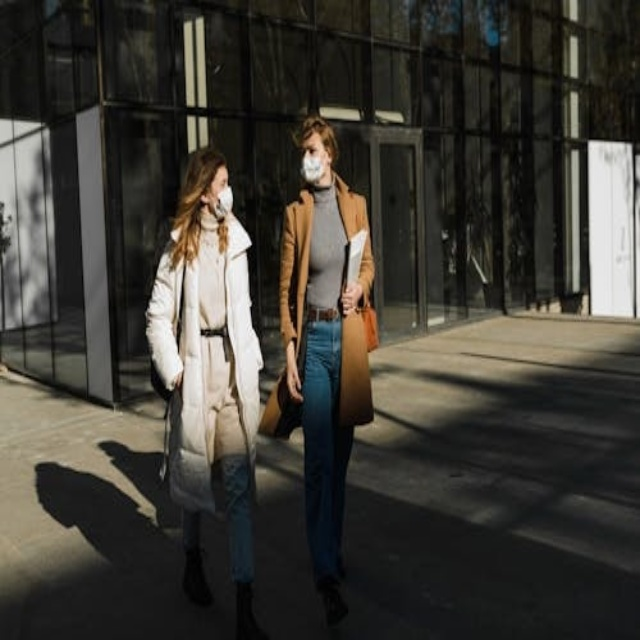Mascara: (300, 152, 325, 183), (213, 185, 234, 218)
Sin_gafas: (207, 172, 232, 194), (303, 138, 324, 151)
Sin_guantes: (283, 351, 308, 408), (341, 279, 362, 312)
